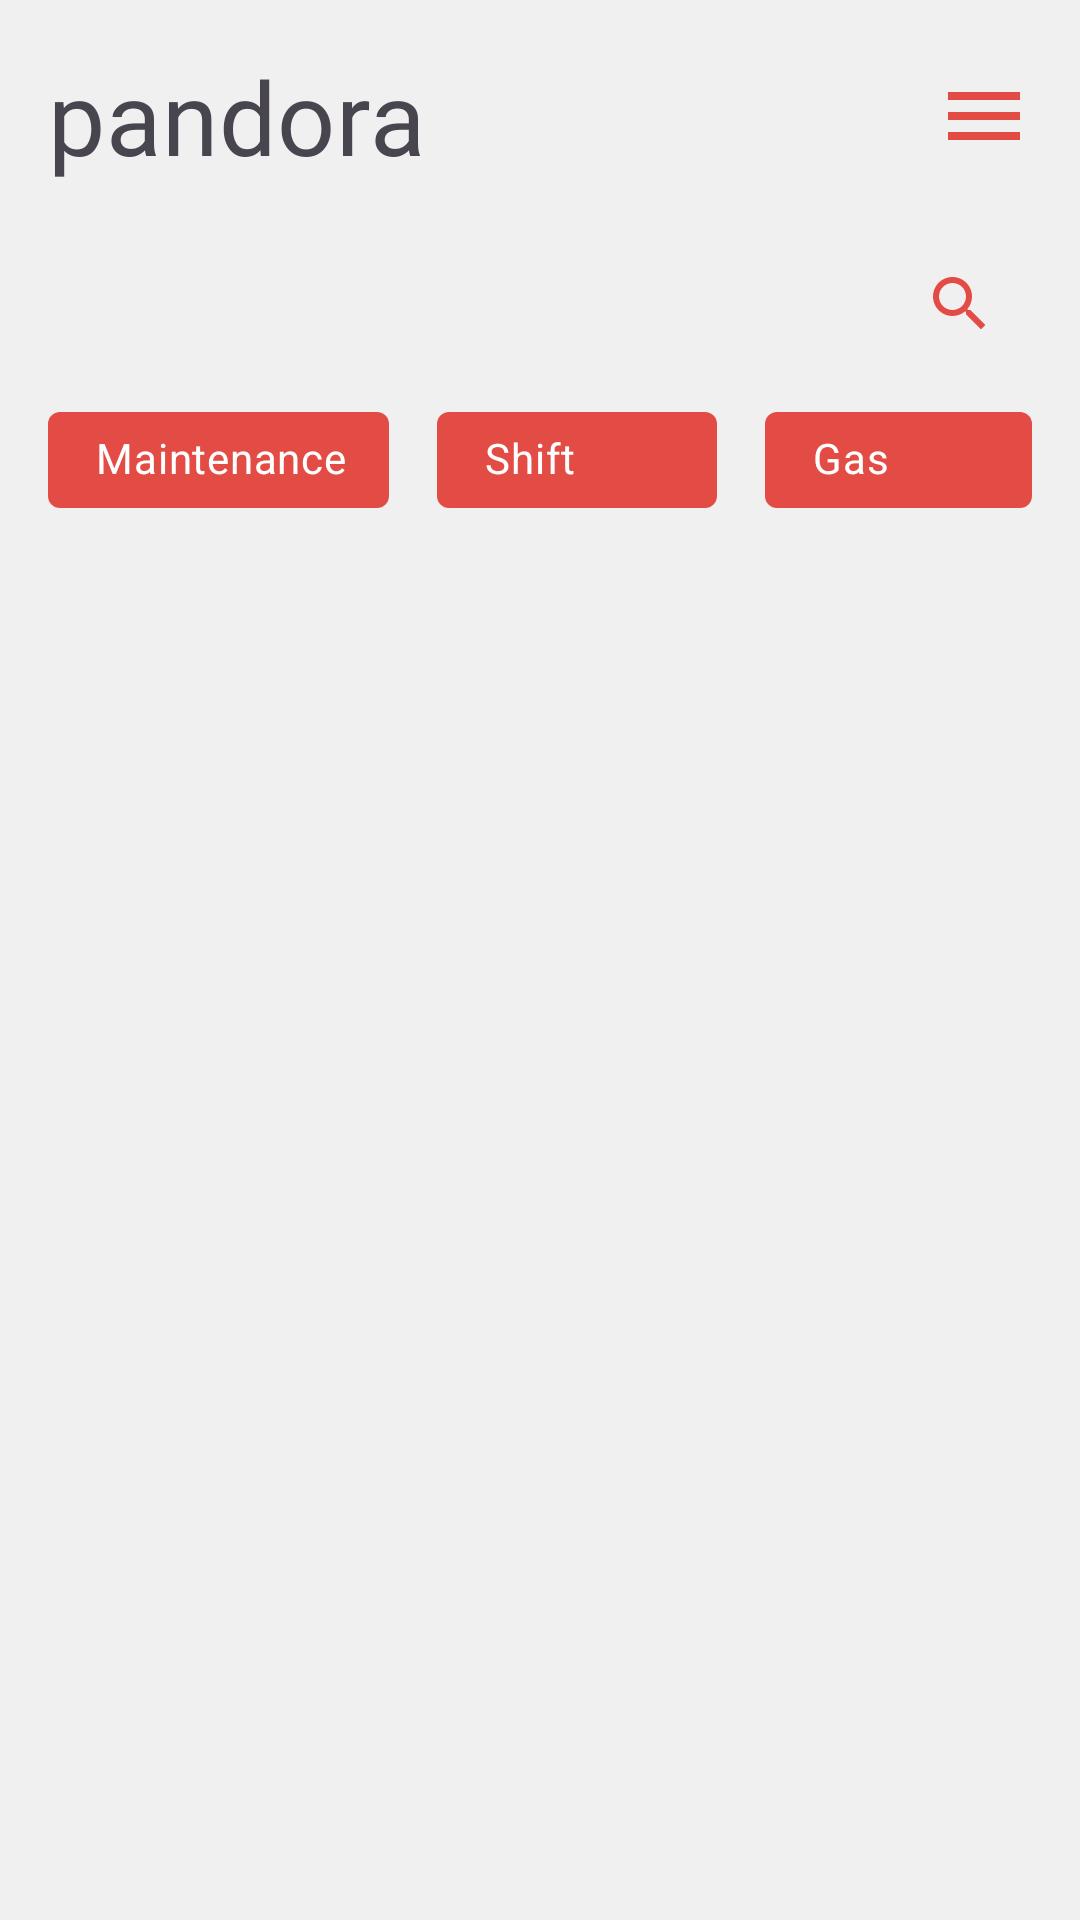

Where icons sit on this 1080 x 1920 app screen, as (x1, y1, x2, y2):
menu: (948, 92, 1020, 140)
